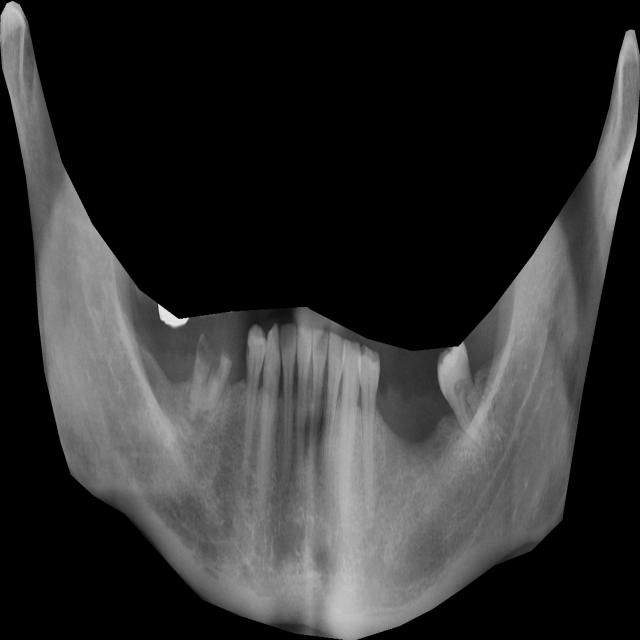mandibula: (0, 1, 640, 640)
